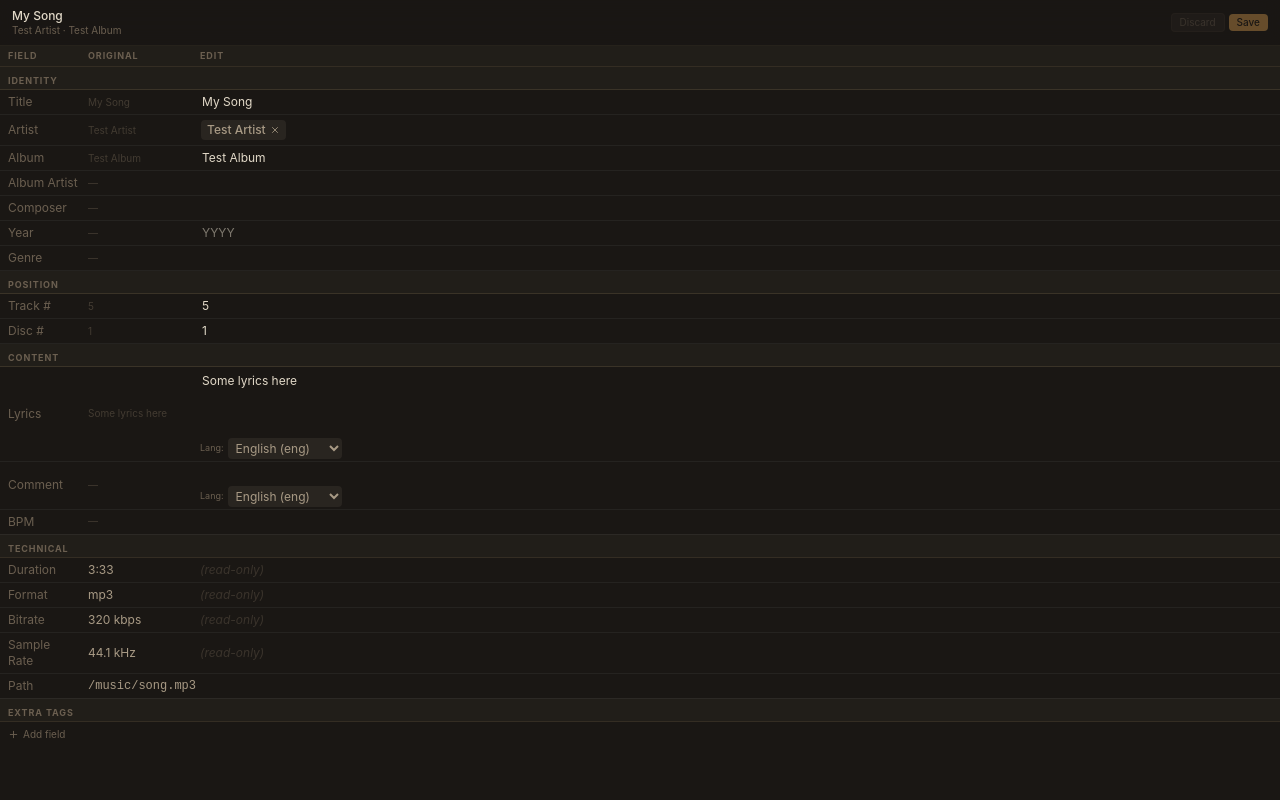
Test: TrackEditorPanel › dirty state clears after discarding changes
Expected: the button "Save" is shown, [1229,14,1268,31]
Clear the field showing "My Song" in the row of "Title" at [736, 102], box [196,92,1276,112]
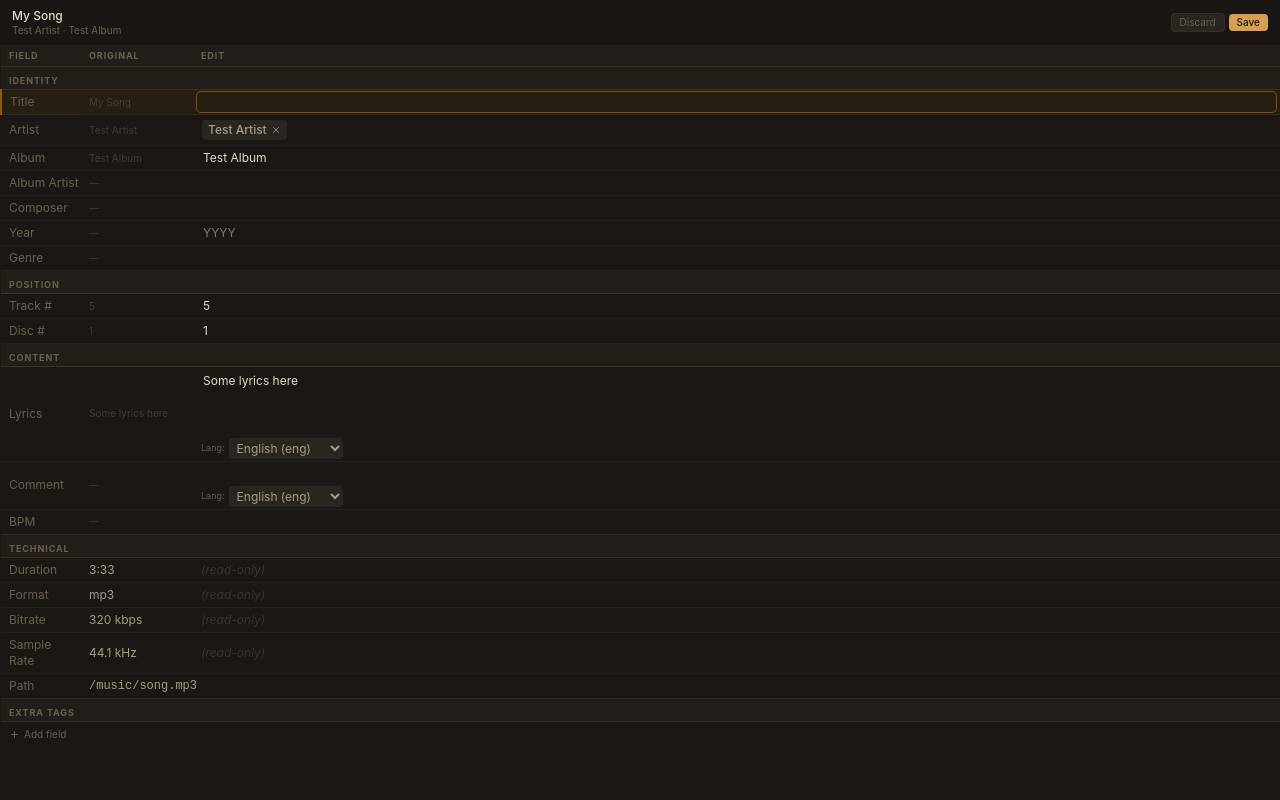
Type "Dirty Title" into the field showing "My Song" in the row of "Title" at [736, 102], box [197,92,1276,112]
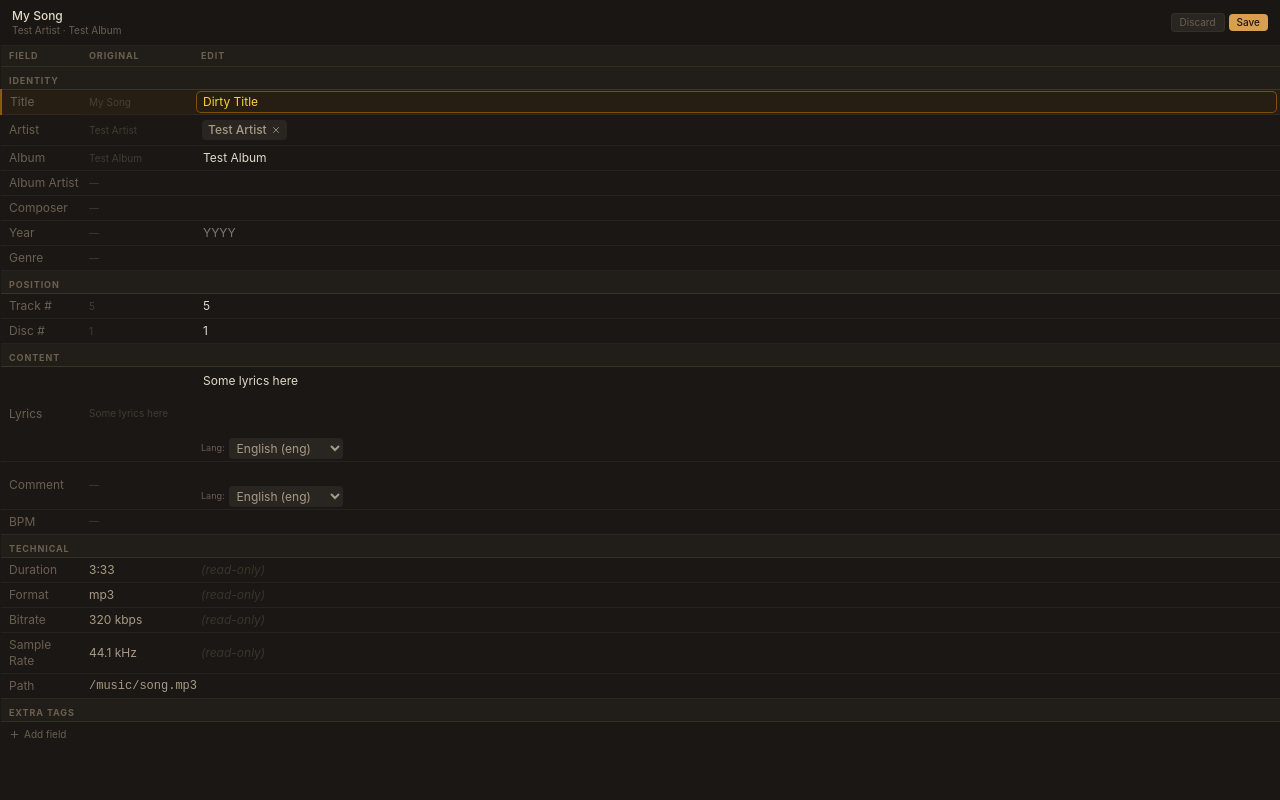
Expected: the button "Save" is enabled, [1229,14,1268,31]
Click the button "Discard" at [1198, 23], box [1170,13,1225,32]
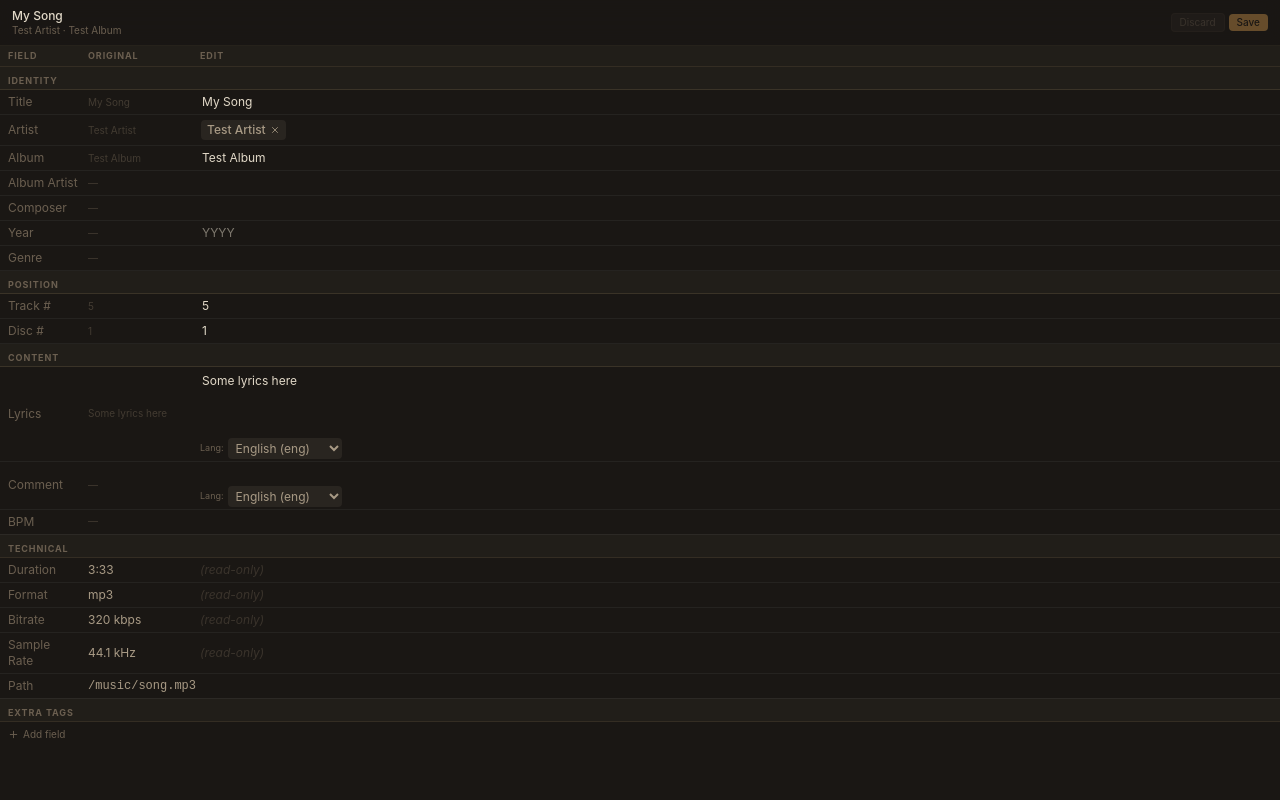
Expected: the button "Save" is disabled, [1229,14,1268,31]
